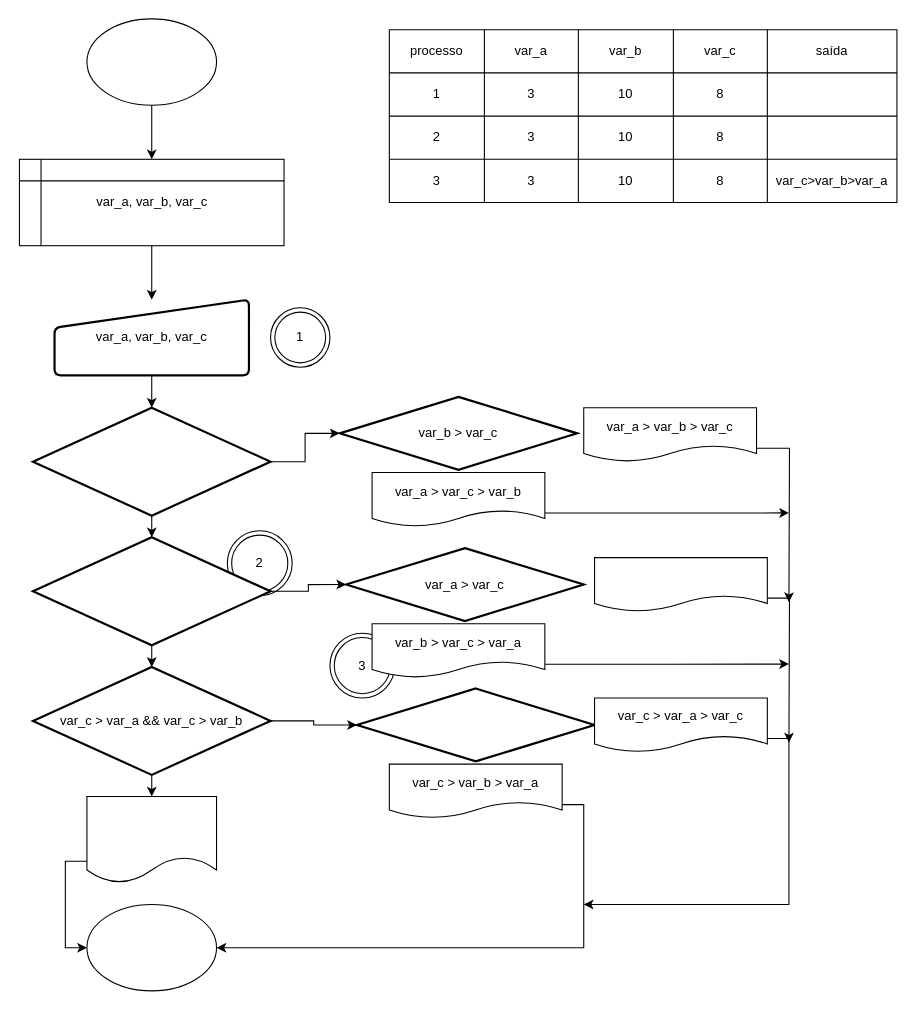
Some shapes in this 916 by 1010 pixel diagram are drawn without their labels. Each missing label, with the box of its shape:
algum valor se repetiu: (86, 795, 217, 883)
fim: (86, 903, 217, 991)
início: (86, 18, 217, 105)
var_a > var_b: (355, 687, 595, 762)
var_a > var_b && var _a > var_c: (31, 406, 271, 516)
var_b > var_a && var_b > var_c: (31, 536, 271, 646)
var_b > var_a > var_c: (593, 557, 767, 612)
